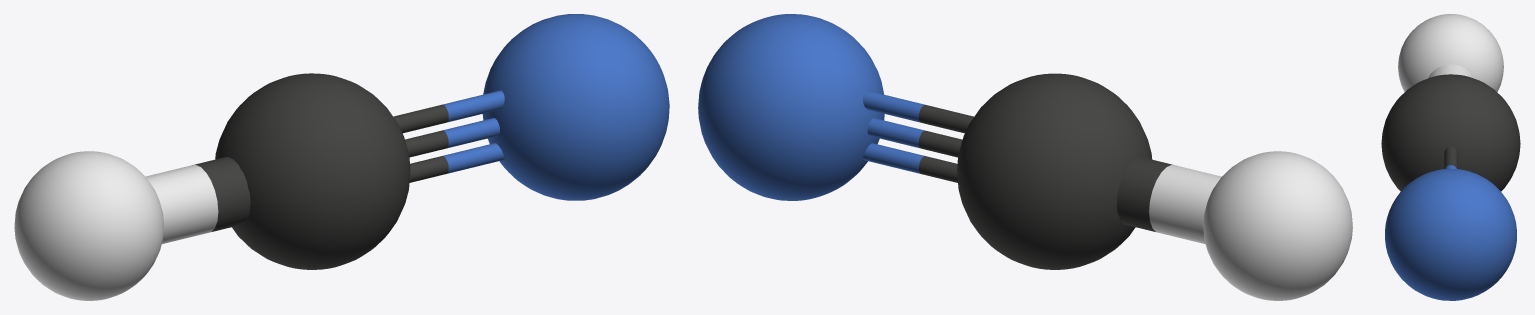
3 renders of one model, left to right at view 1: azimuth 30°, elevation 25°; view 2: azimuth 150°, elevation 25°; view 3: azimuth 270°, elevation 25°, orthographic. The views are drawn at different scales.
Parts seen in each view (by area): view 1: C014; view 2: C014; view 3: C014.
Part boxes in pixels (box(x1,y1,x2,y2)): C014: box(14, 14, 669, 300); C014: box(698, 14, 1352, 300); C014: box(1381, 14, 1520, 300).
Bounding box in the file's own units: 57.16 × 15.39 × 15.39.
Materials: 1 (1 with a texture image).
